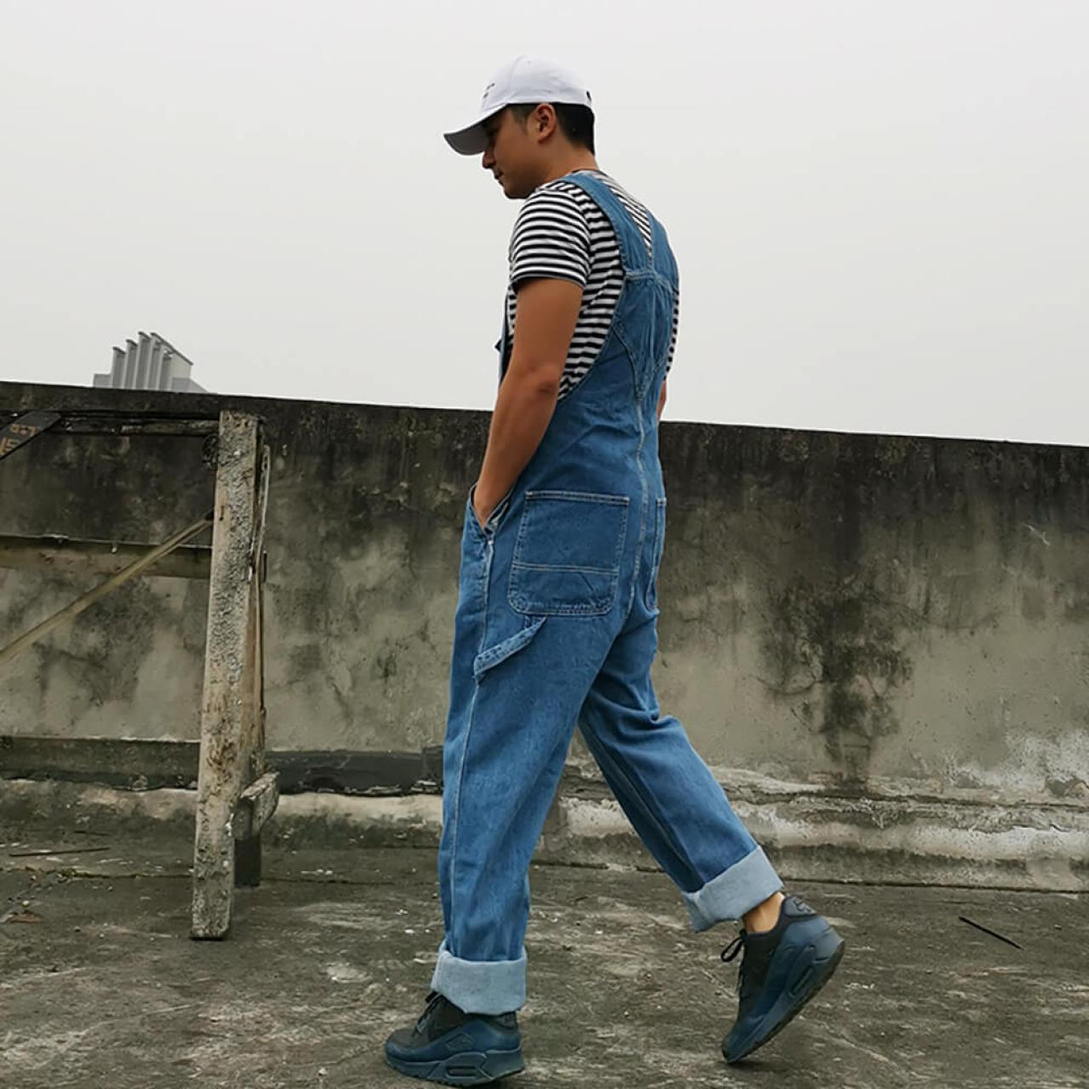NO_Safety_Vest: (498, 177, 703, 490)
Person: (378, 33, 855, 1080)
